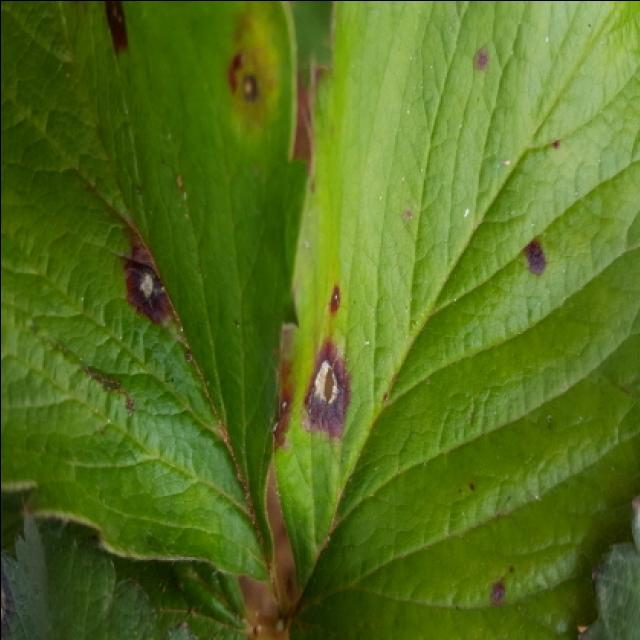Leaf Spot: (276, 2, 640, 640), (2, 2, 311, 581)
